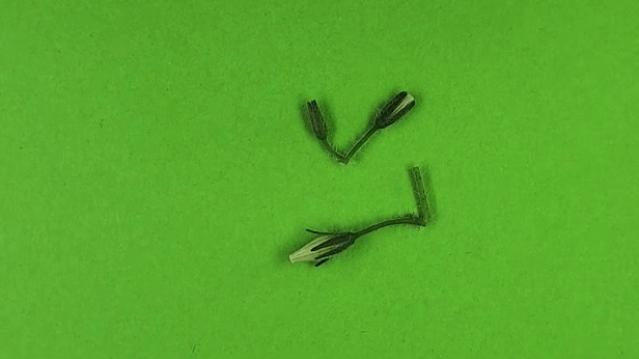Flower Bud: (289, 232, 355, 268), (375, 90, 417, 127), (305, 99, 328, 141)
